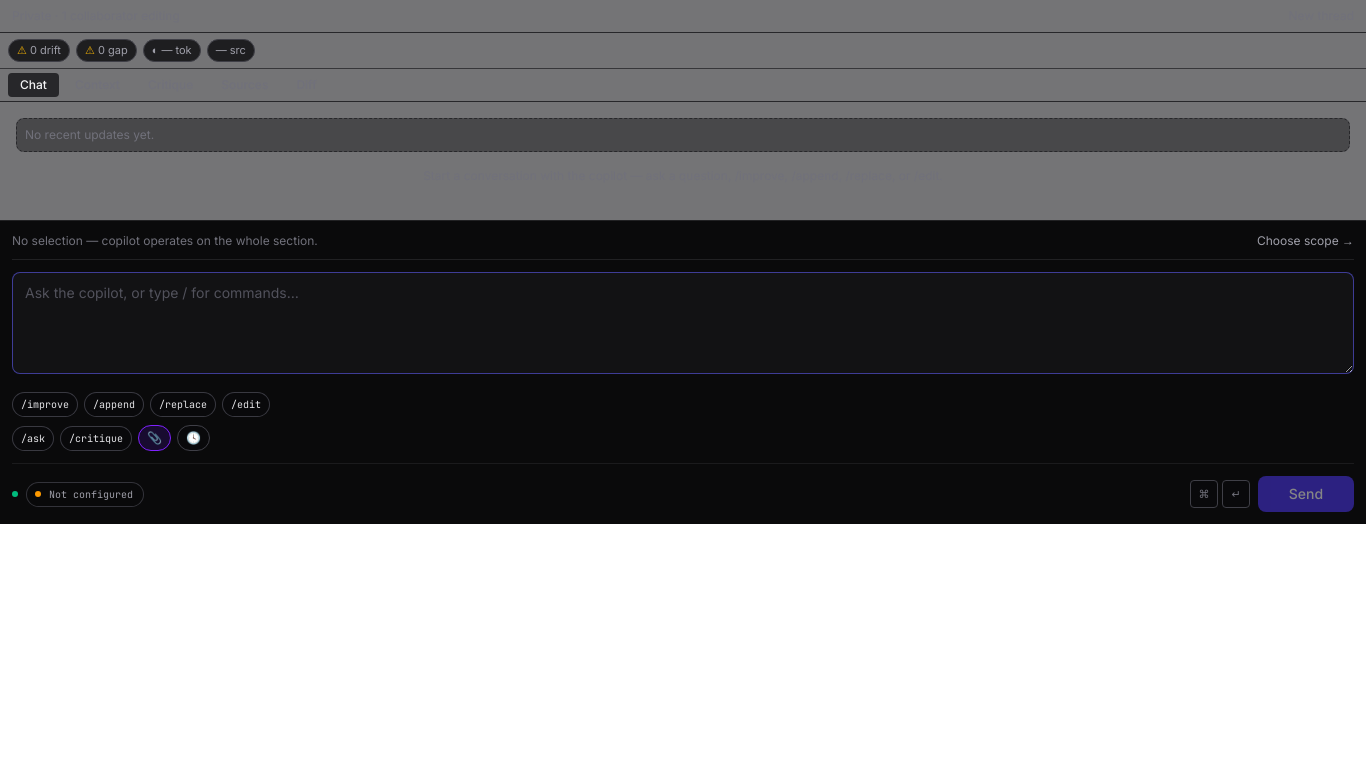
Test: ThreadPanel › shows context truncation banner when stream meta has context_truncated true
In the text box with placeholder "Ask the copilot, or type / for commands…": (683, 323) [12,272,1354,374], type "hello"
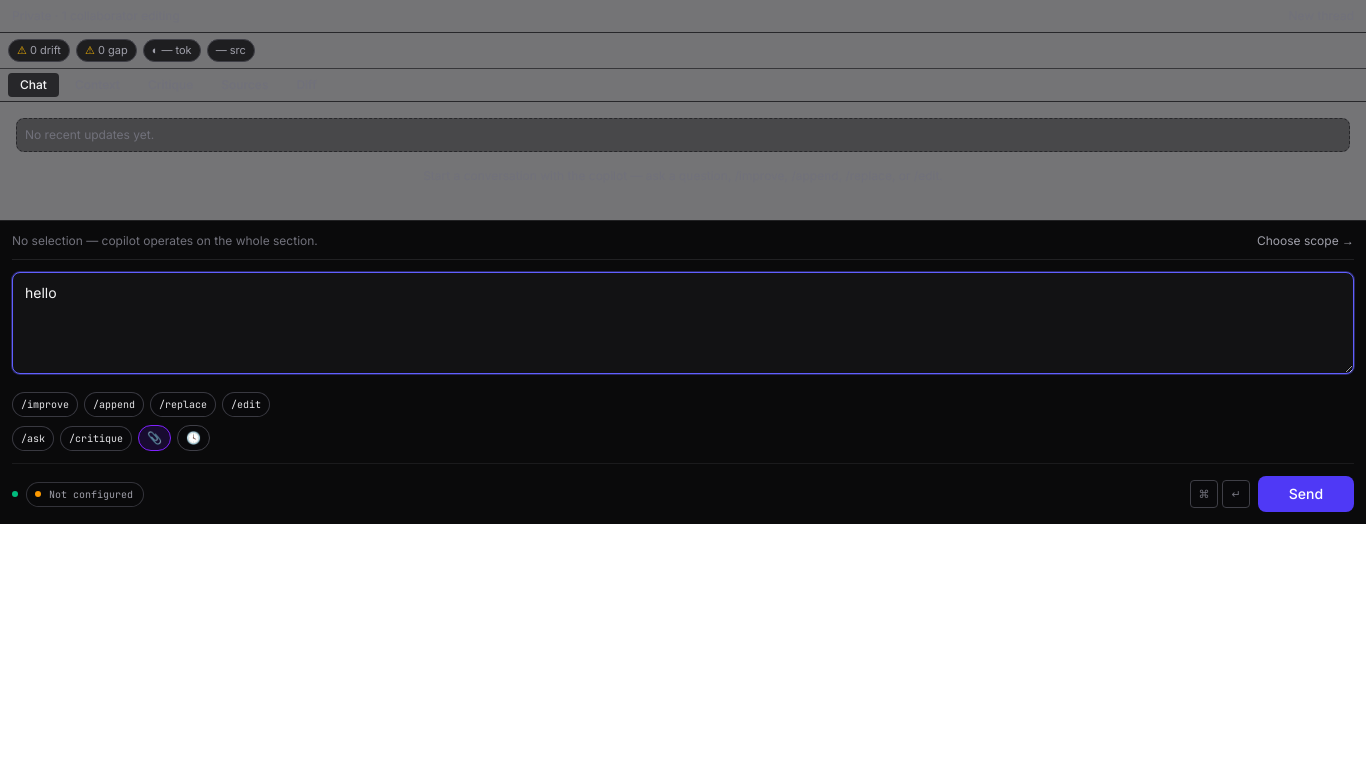
Click the button "Send": (1306, 494) [1258,476,1354,512]
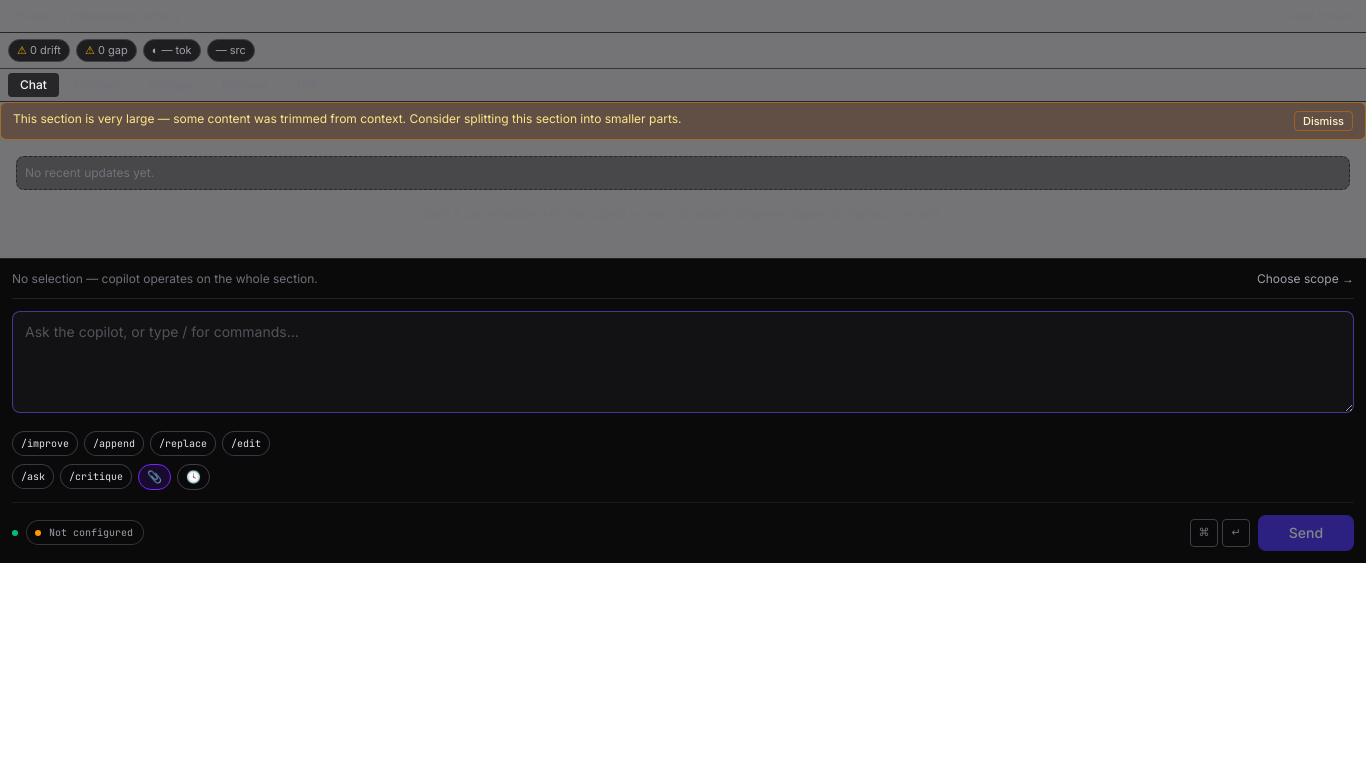
Check: the message shows "This section is very large — some content was trimmed from context. Consider splitting this section into smaller parts.", box [13,110,682,126]
